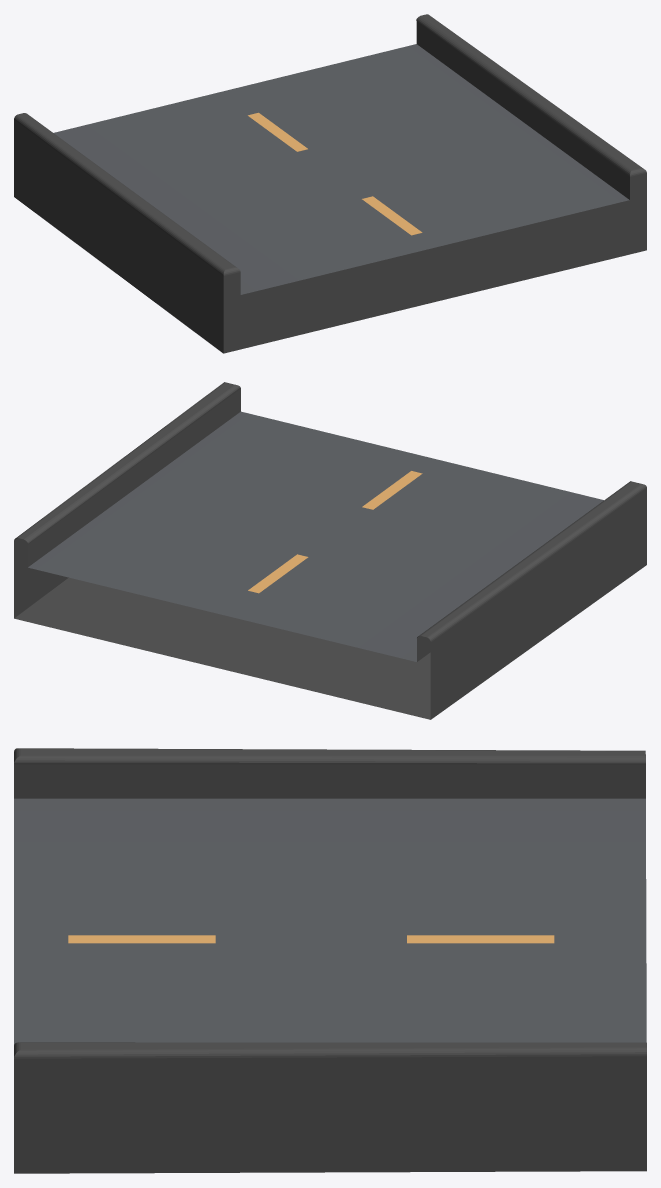
File: AddiotinalPiecePath3.fbx
3 renders of one model, top to bottom at view 1: azimuth 30°, elevation 25°; view 2: azimuth 150°, elevation 25°; view 3: azimuth 270°, elevation 25°, orthographic. The views are drawn at different scales.
Visible parts, largest first — view 1: Plane.001; view 2: Plane.001; view 3: Plane.001.
Boxes of the visible parts, box(x1,y1,x2,y2) form: Plane.001: box(14, 14, 646, 353); Plane.001: box(14, 382, 646, 719); Plane.001: box(14, 748, 646, 1173).
Bounding box in the file's own units: 327 × 60.21 × 285.
